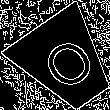O_SE: (32, 29, 100, 96)
